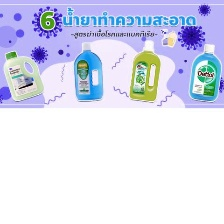cleaning_solution: (1, 48, 45, 103), (183, 40, 222, 102), (126, 38, 162, 103), (70, 39, 104, 103)
